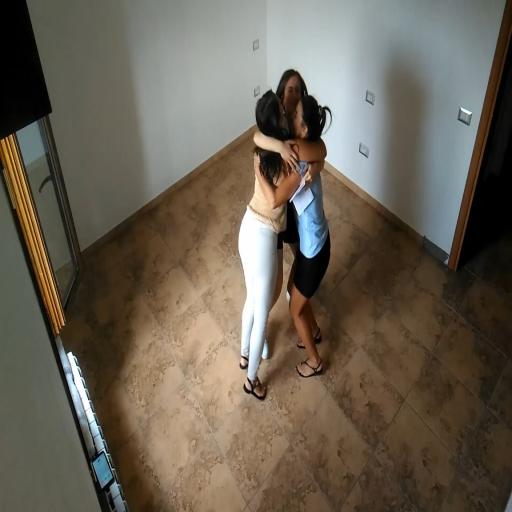nao-violencia: (219, 58, 340, 410)
